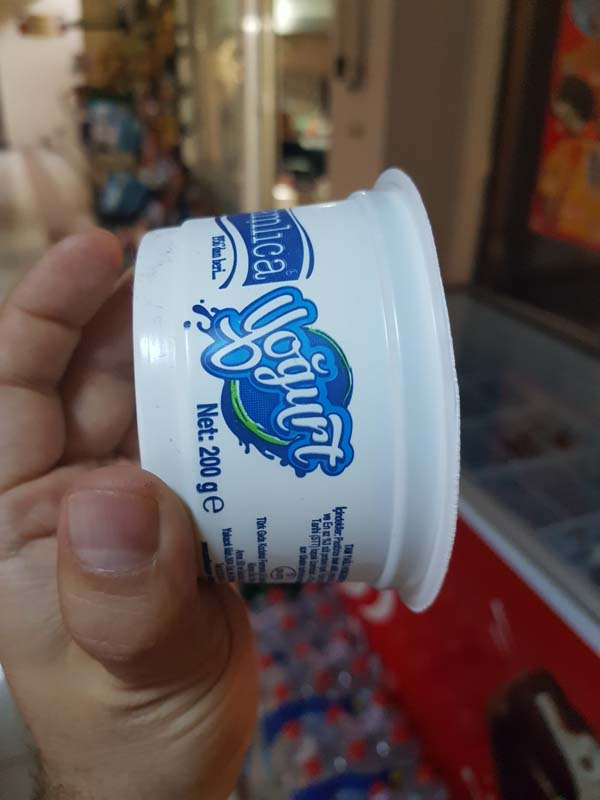camlicayogurt: (129, 158, 471, 633)
